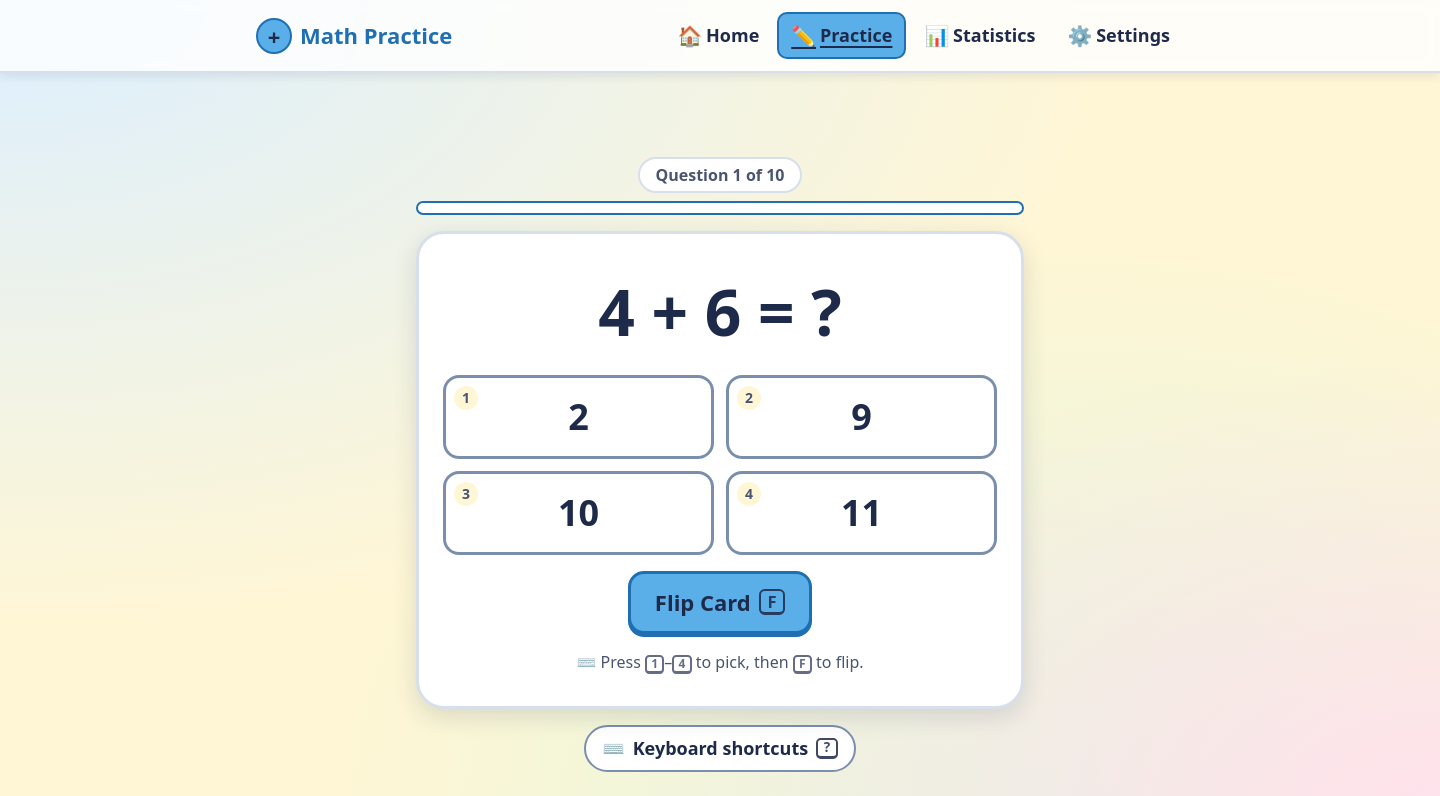
Test: PracticeSessionPage › shows and updates progress after every answer
This screenshot has width=1440, height=796.
Expected: the text "Question 1 of 10" is shown, [638,157,802,193]
Click the button named "Choice": (578, 417) [443,375,714,459]
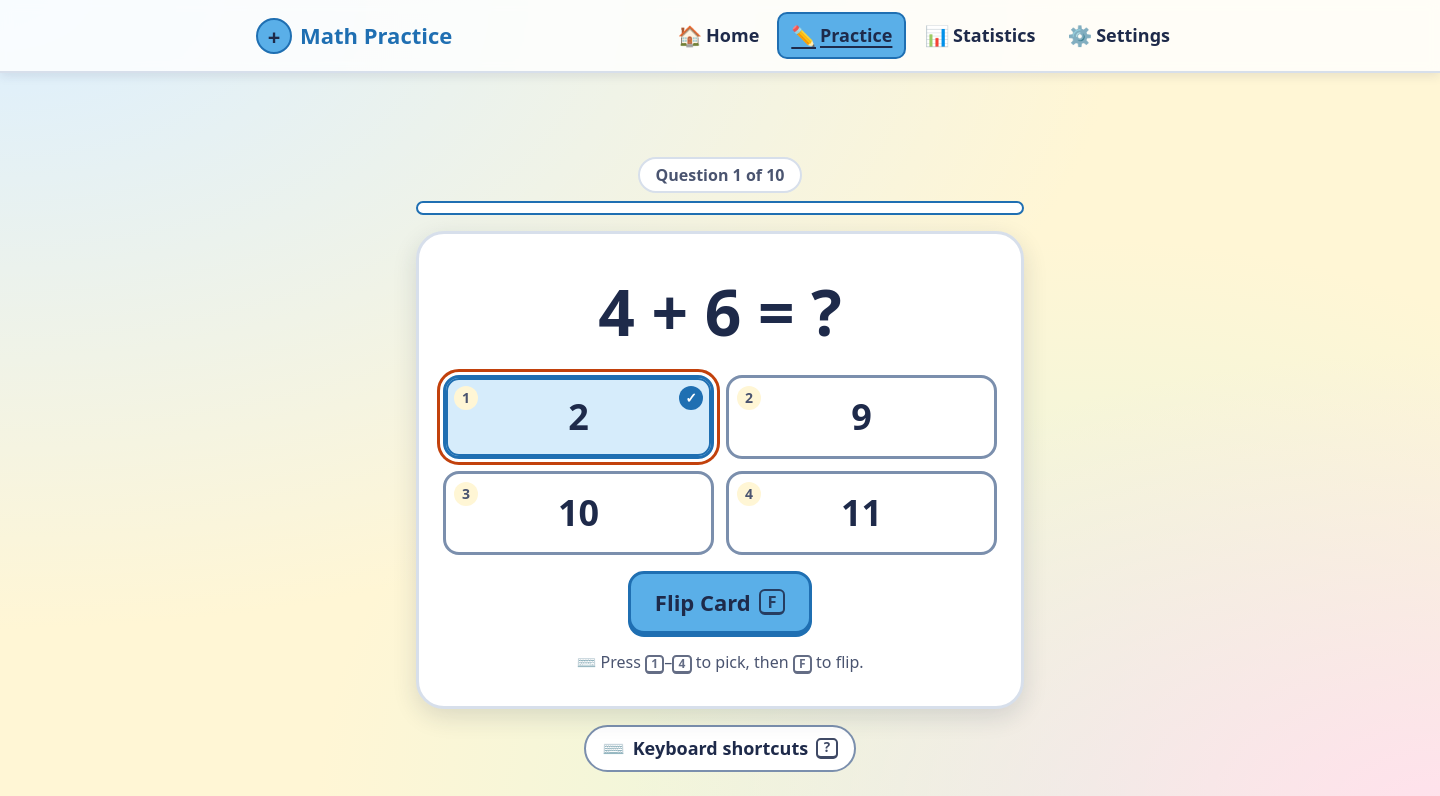
Click the button "Flip Card F": (720, 602) [628,571,812,634]
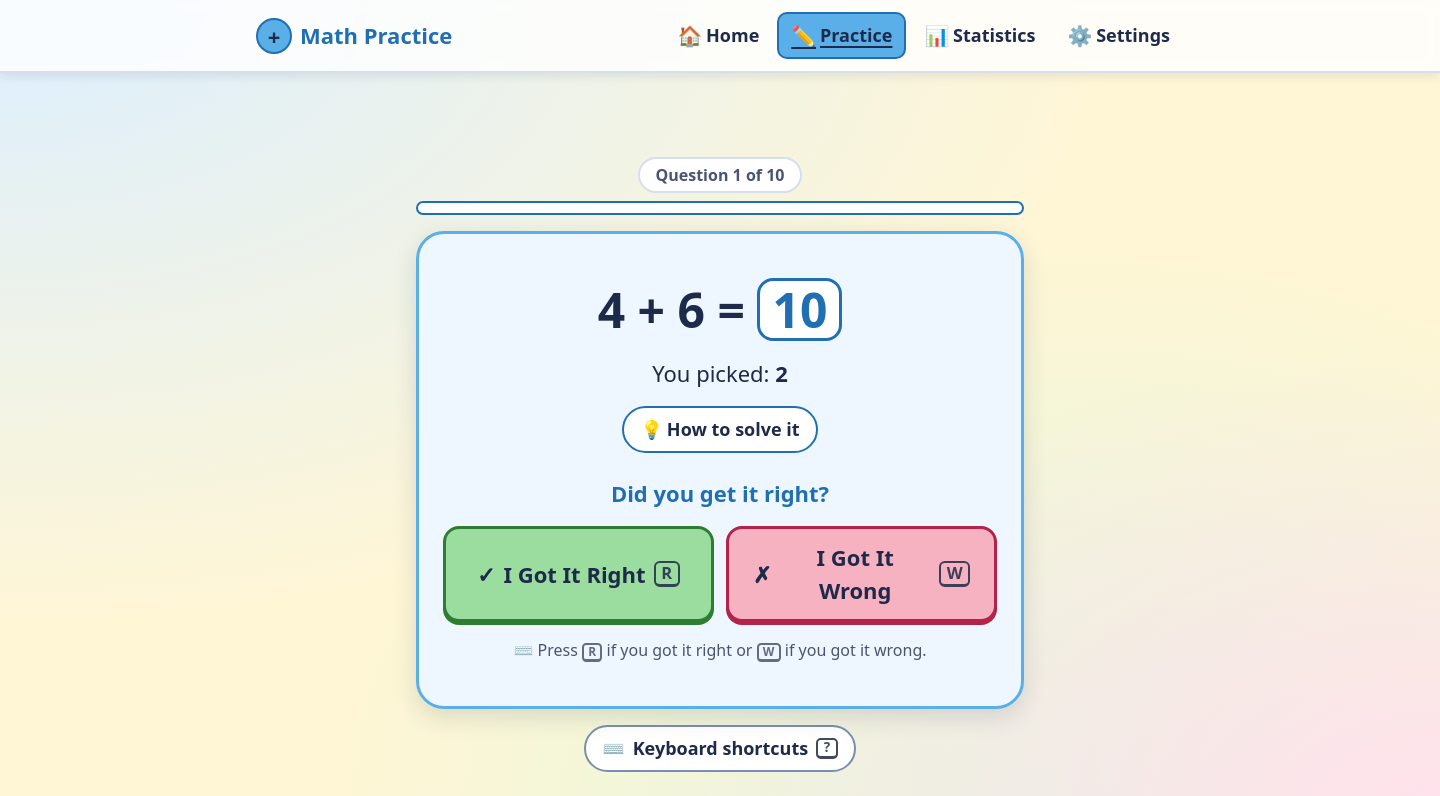
Click the button "✓ I Got It Right R": (578, 574) [443,526,714,622]
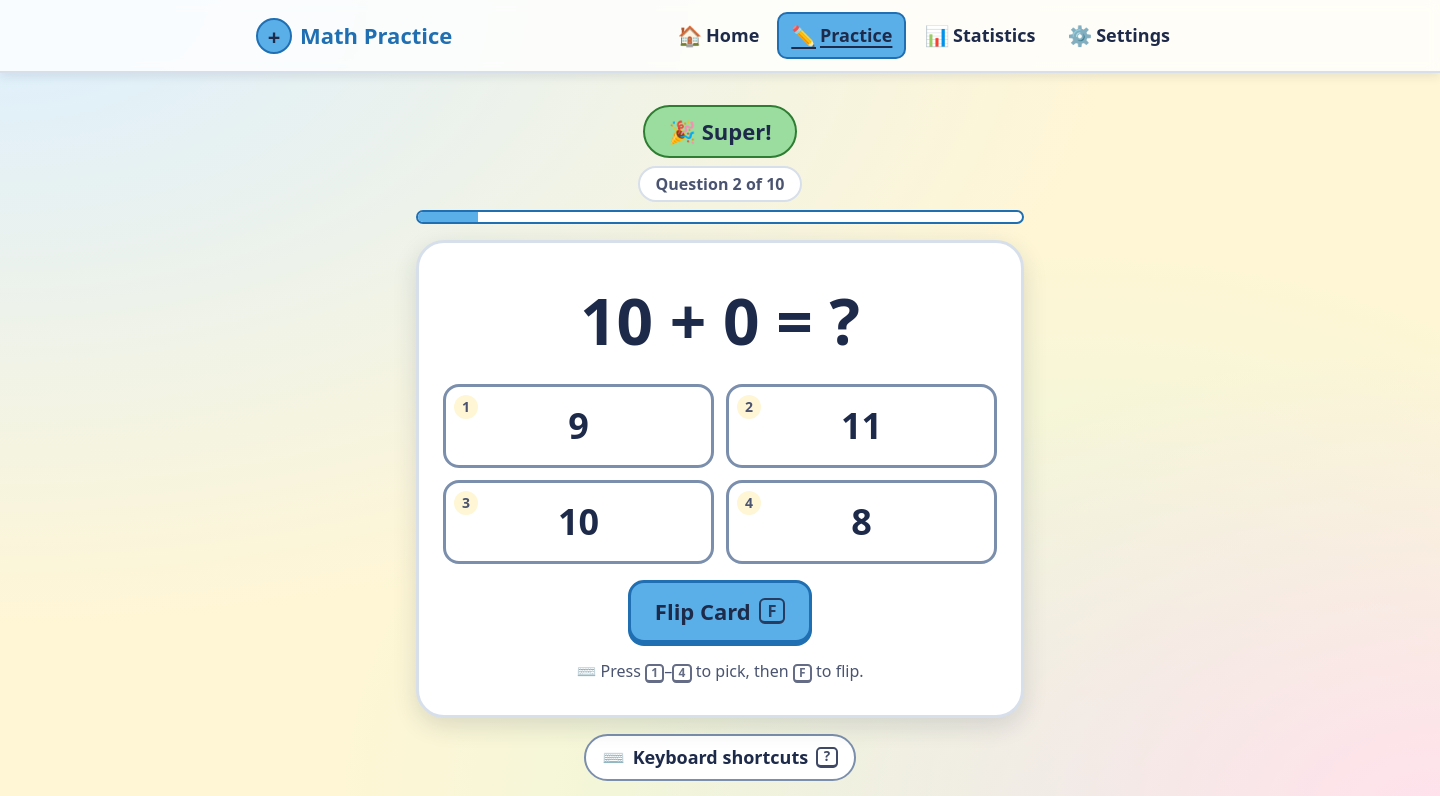
Now the text "Question 2 of 10" is shown, box [638,166,802,202]
